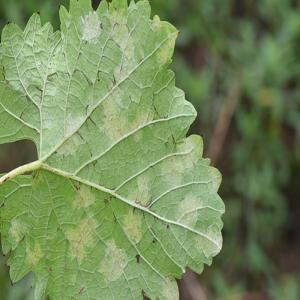Folha: (0, 0, 226, 299)
Fungo: (65, 215, 96, 266), (98, 237, 129, 284), (69, 176, 95, 208), (76, 129, 97, 167), (122, 209, 142, 245), (80, 10, 100, 42), (24, 238, 44, 266), (160, 274, 179, 300), (134, 254, 140, 264), (74, 182, 80, 192), (92, 159, 97, 167), (97, 69, 100, 81), (151, 237, 156, 244), (64, 263, 69, 269), (166, 224, 169, 230), (49, 266, 52, 272)
